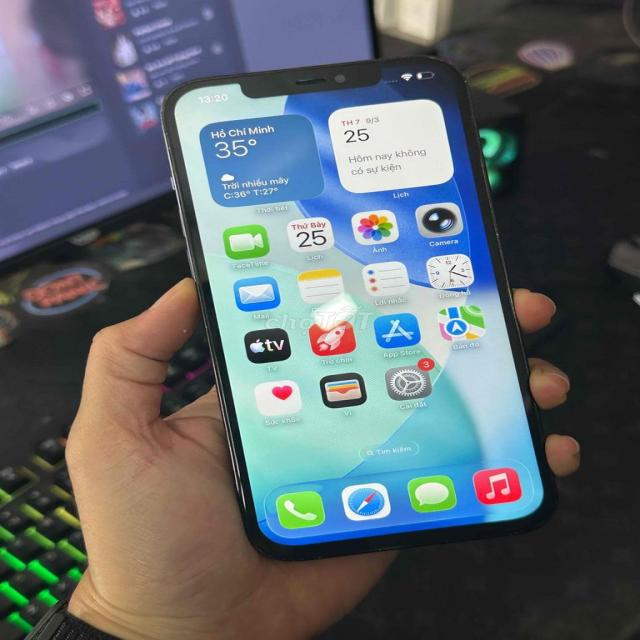scratch: (409, 52, 493, 131), (156, 95, 200, 172)
